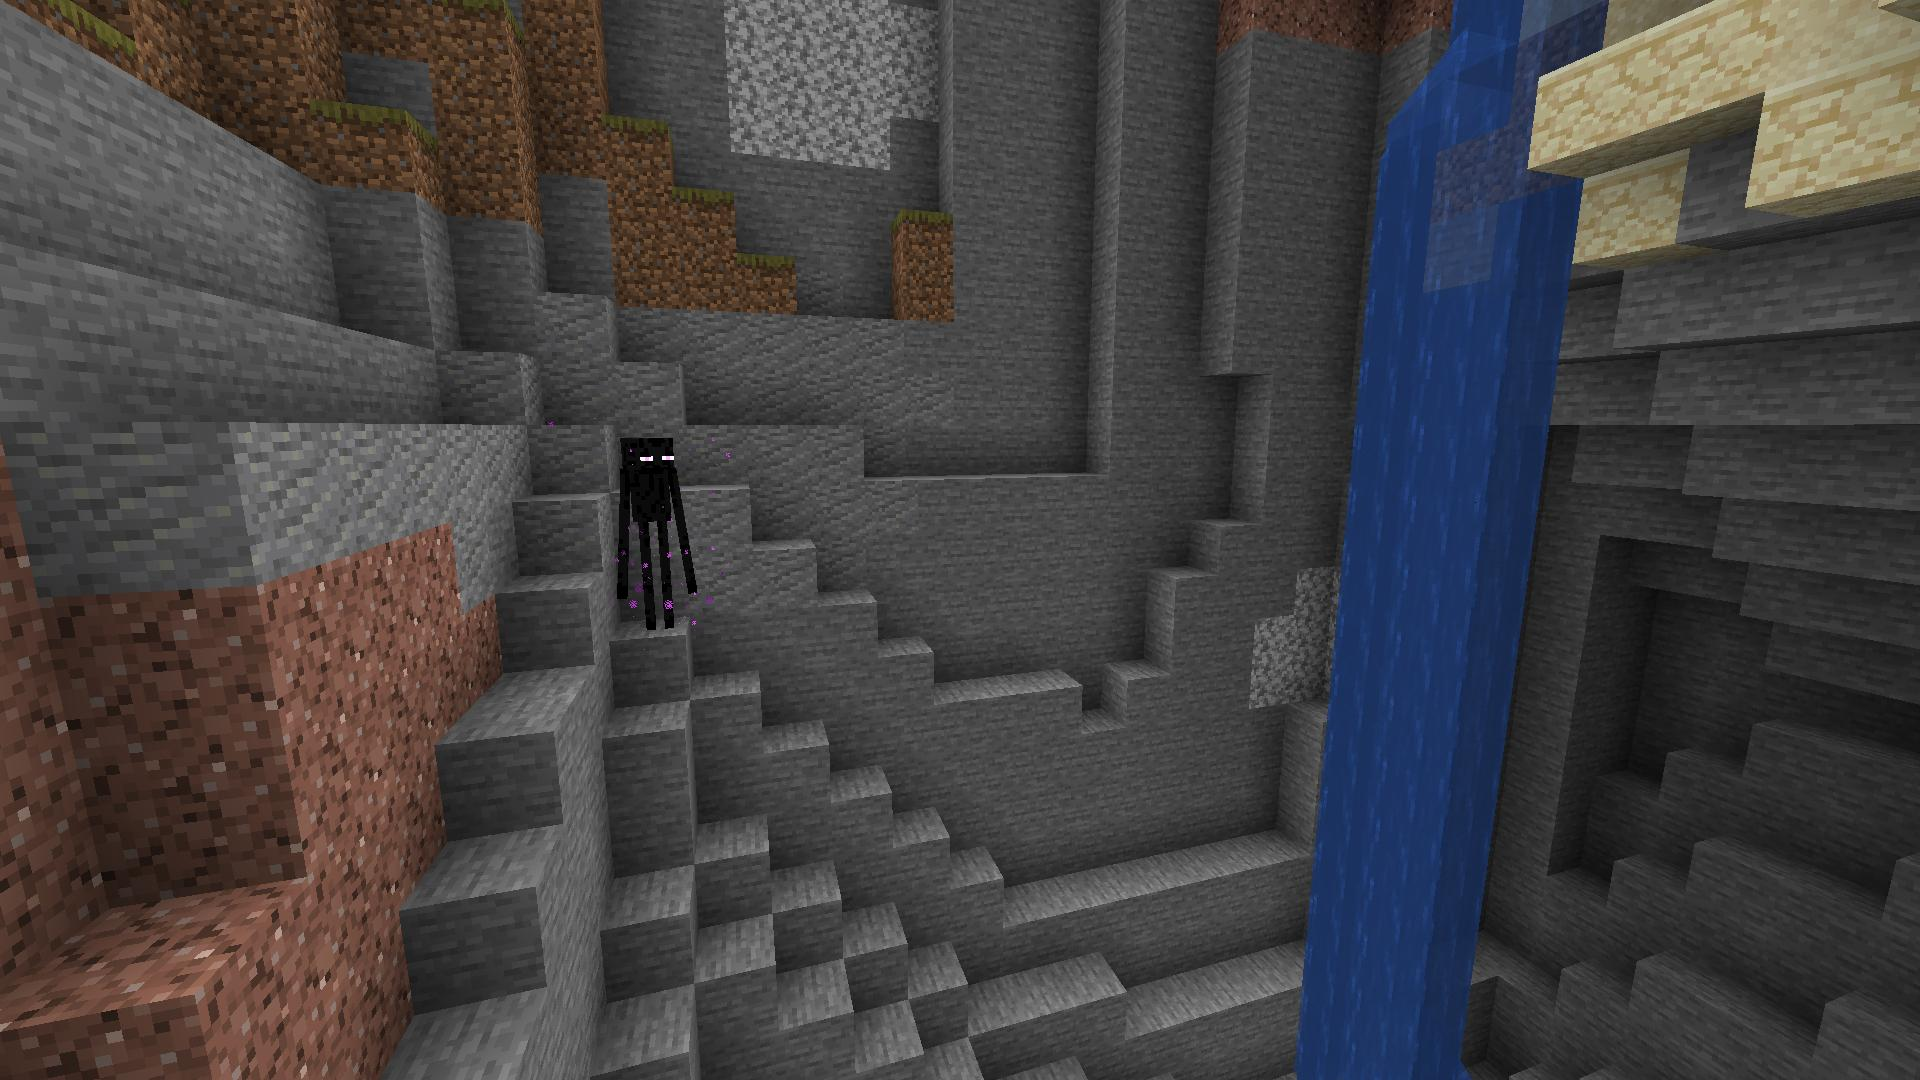enderman: (588, 402, 712, 658)
